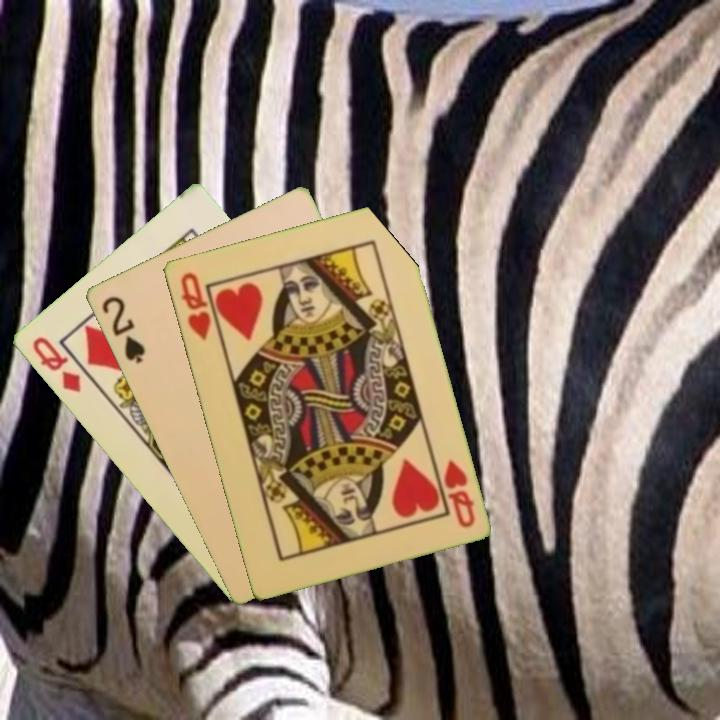2s: (97, 292, 148, 366)
Qd: (28, 333, 83, 396)
Qh: (439, 455, 478, 531), (176, 268, 214, 344)
